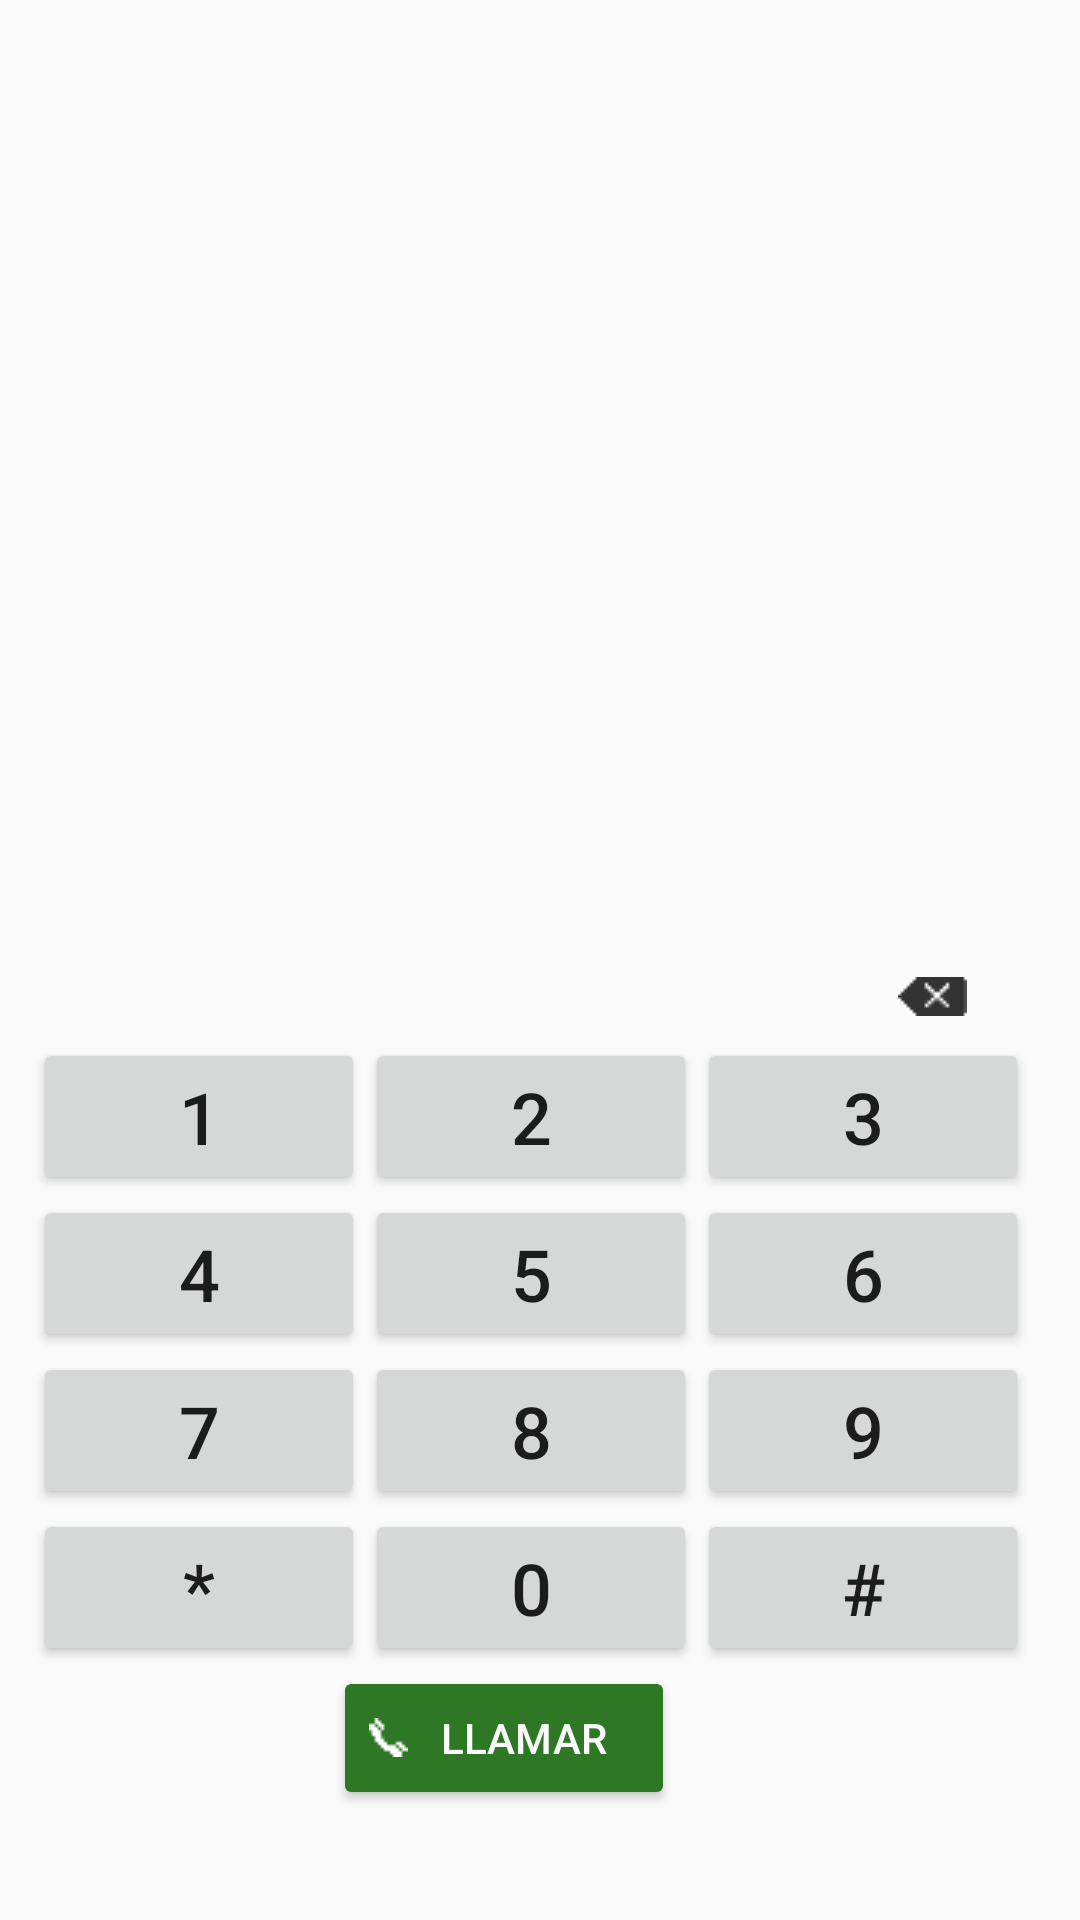

Named icons in this screenshot (1080*1920) and their bounding boxes, (x1, y1, x2, y2):
delete: (898, 977, 967, 1016)
